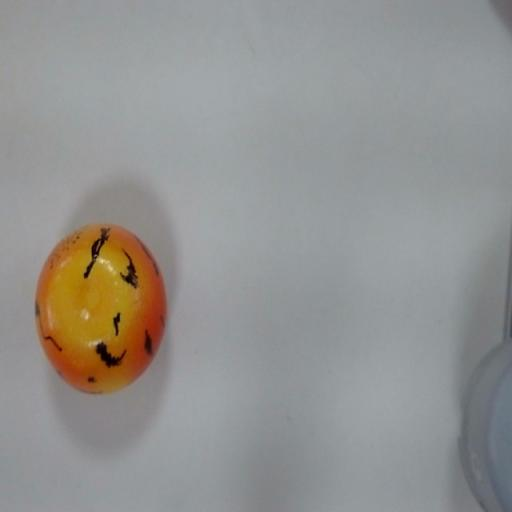Defective: (31, 221, 176, 404)
